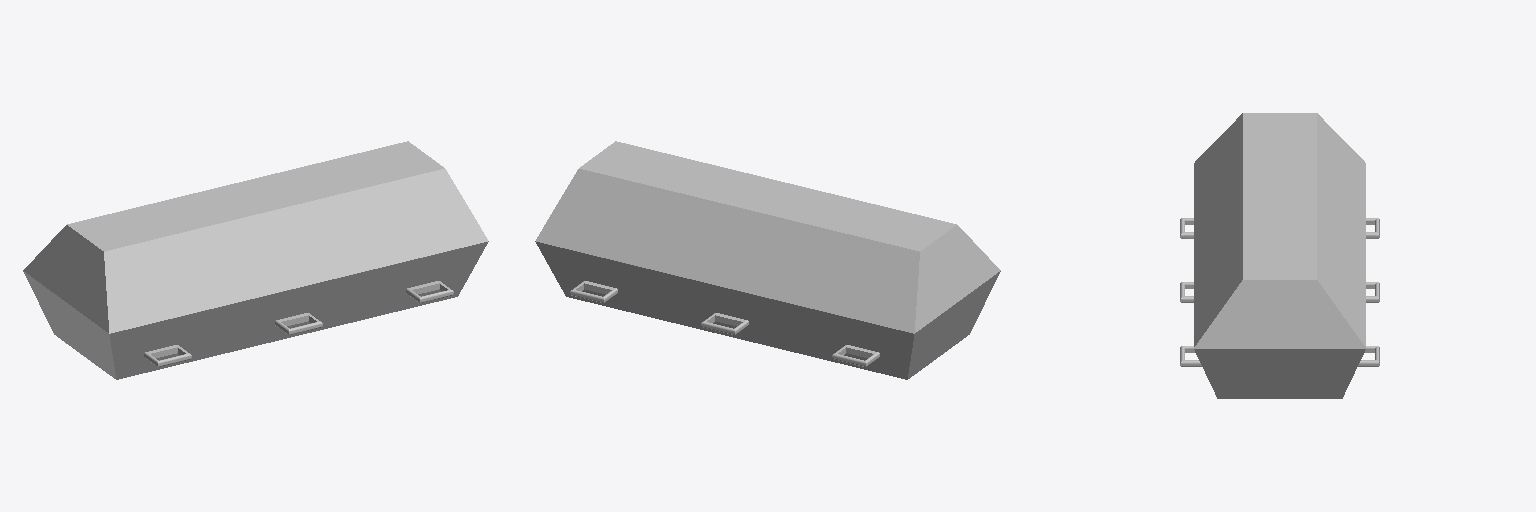
Rendered from fixed-handles.obj.
The picture shows the model from 3 angles: view 1: azimuth 30°, elevation 25°; view 2: azimuth 150°, elevation 25°; view 3: azimuth 270°, elevation 25°; orthographic projection.
Parts seen in each view (by area): view 1: Body1; view 2: Body1; view 3: Body1.
Part boxes in pixels (bbox=[...]): Body1: bbox=[23, 141, 488, 379]; Body1: bbox=[535, 141, 1000, 379]; Body1: bbox=[1180, 113, 1379, 398].
Size of the model in its own units: 2000 by 600 by 908.